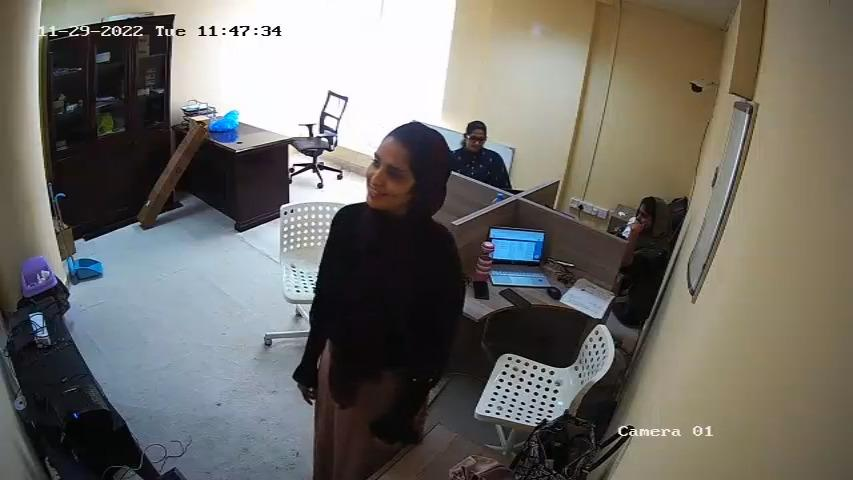no_apron: (332, 227, 433, 390)
